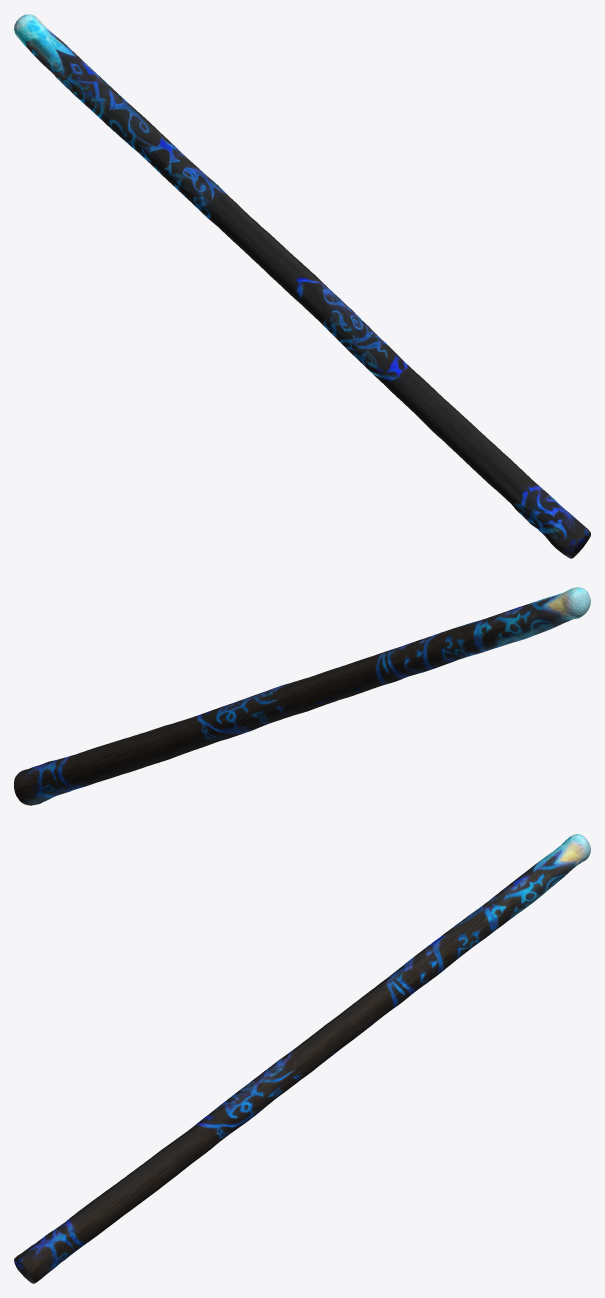
The model's file is Luminous_Rune_Wand_0522132925_texture.obj.
3 renders of one model, top to bottom at view 1: azimuth 30°, elevation 25°; view 2: azimuth 210°, elevation 25°; view 3: azimuth 270°, elevation 25°, orthographic. The views are drawn at different scales.
Visible parts, largest first — view 1: Luminous_Rune_Wand_0522132925_texture; view 2: Luminous_Rune_Wand_0522132925_texture; view 3: Luminous_Rune_Wand_0522132925_texture.
Boxes of the visible parts, x1,y1,x2,y2 form: Luminous_Rune_Wand_0522132925_texture: (14,14,590,558); Luminous_Rune_Wand_0522132925_texture: (14,587,590,805); Luminous_Rune_Wand_0522132925_texture: (14,834,590,1283).
Size of the model in its own units: 0.9752 by 1.3 by 2.
1 material, 1 textured.
